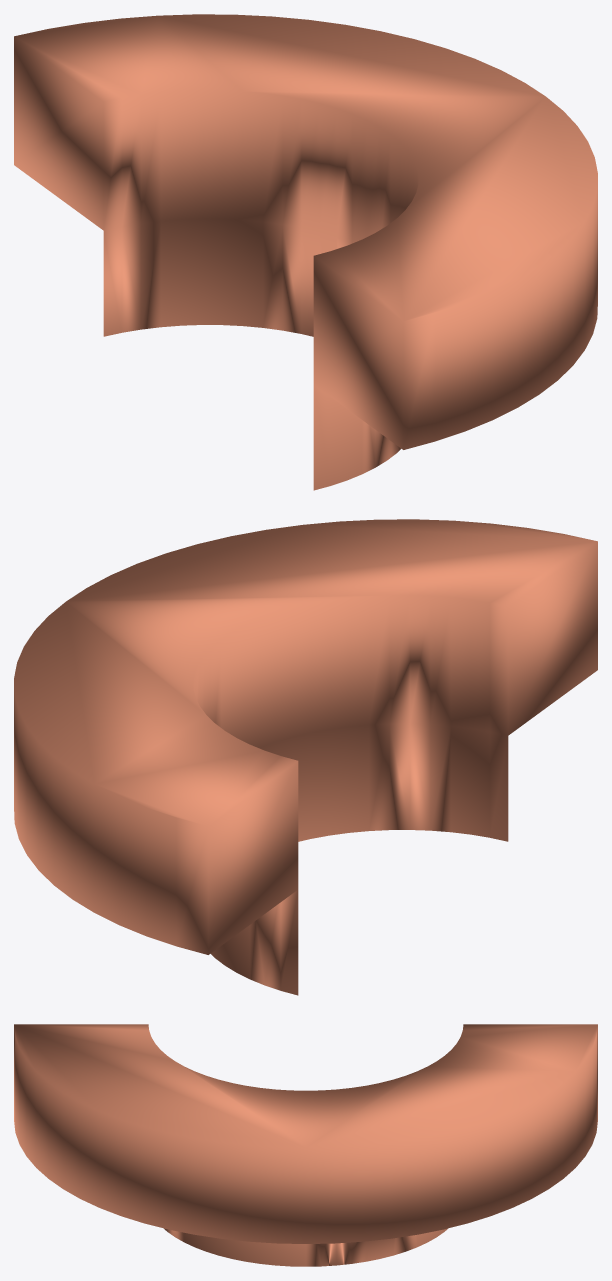
The model's file is red_sofa.glb.
3 views of the same model, one above another, from view 1: azimuth 30°, elevation 25°; view 2: azimuth 150°, elevation 25°; view 3: azimuth 270°, elevation 25° (orthographic). The views are drawn at different scales.
Parts seen in each view (by area): view 1: 圆环; view 2: 圆环; view 3: 圆环.
Boxes of the visible parts, bbox=[...] form: 圆环: bbox=[14, 14, 597, 490]; 圆环: bbox=[14, 519, 597, 995]; 圆环: bbox=[14, 1024, 597, 1266].
Size of the model in its own units: 2 by 1.33 by 4.
